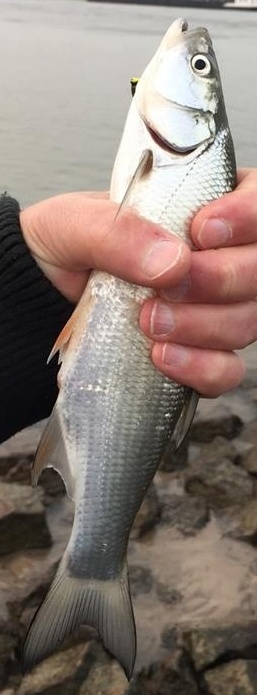Aspius aspius: (20, 20, 237, 675)
